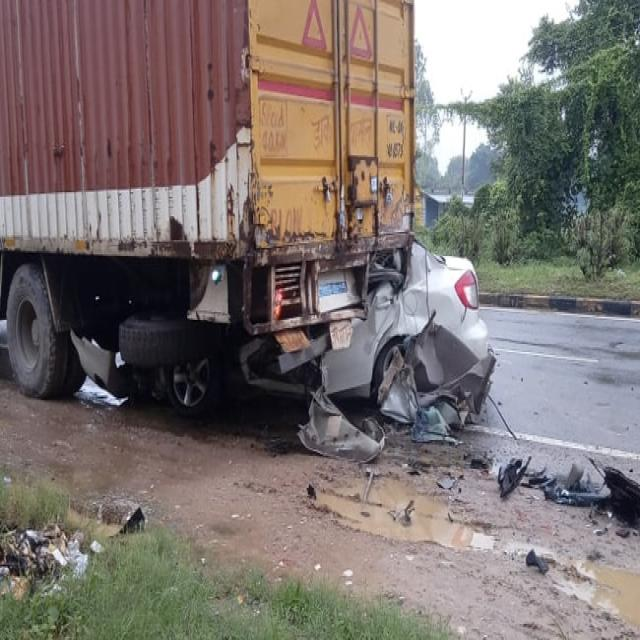accident: (239, 244, 496, 460)
